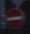No entry: (6, 6, 25, 29)
